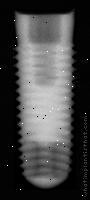Zimmer: (11, 10, 76, 191)
